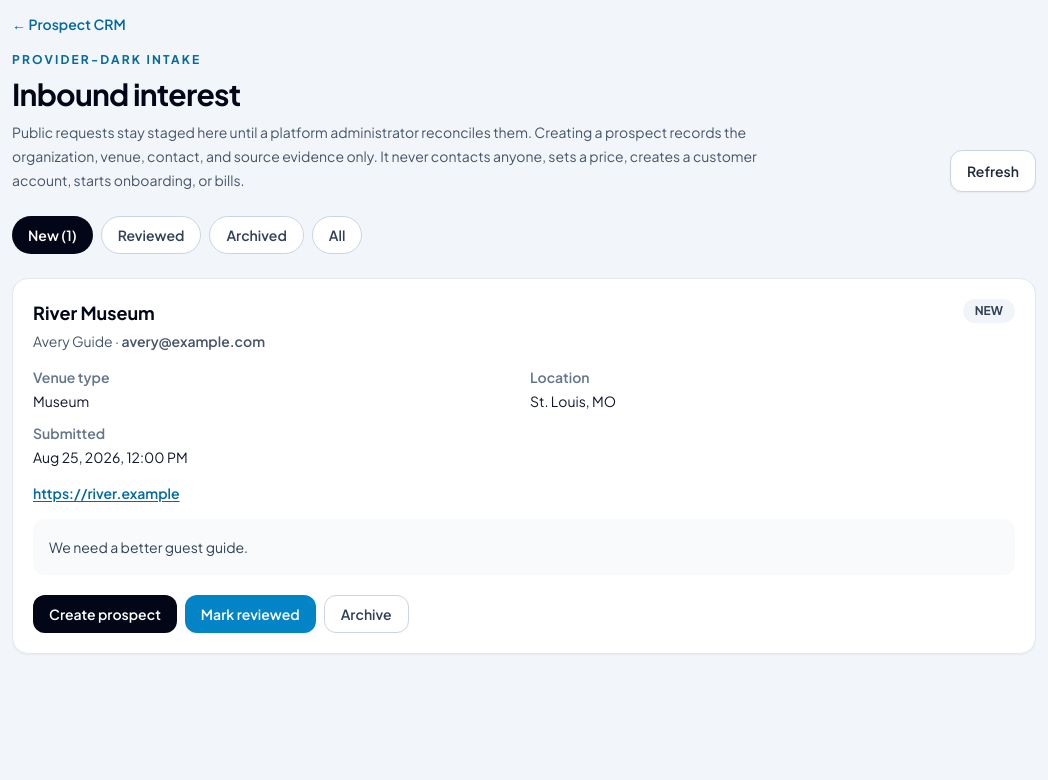
it: PublicInterestInbox › creates a canonical prospect only through the explicit human action
Click the button "Create prospect" at x=105, y=614, box [33,595,177,633]
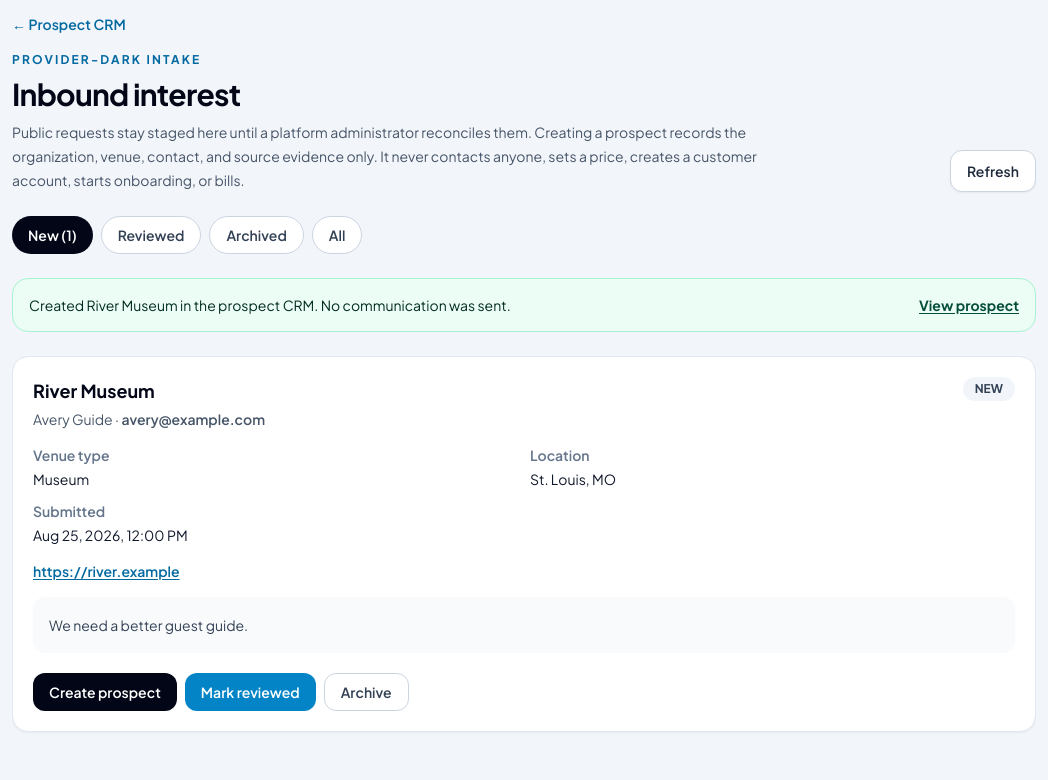
Now the text "Created River Museum in the prospect CRM" is shown, box [29,295,511,315]
